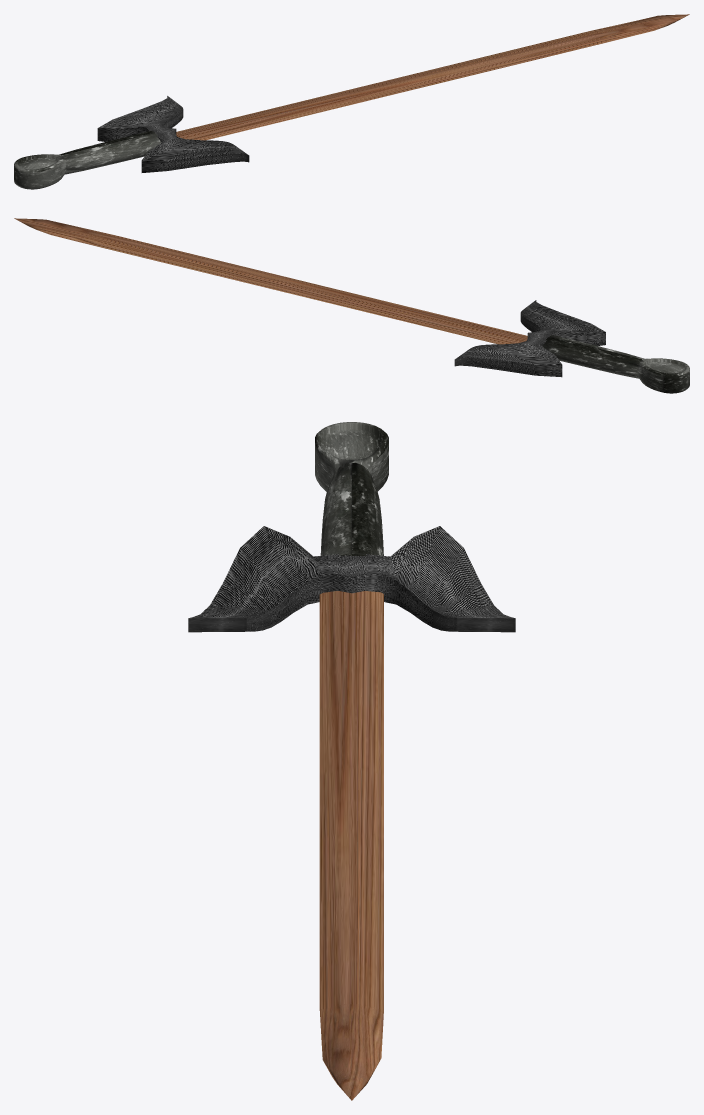
File: sword.FBX
3 views of the same model, one above another, from view 1: azimuth 30°, elevation 25°; view 2: azimuth 150°, elevation 25°; view 3: azimuth 270°, elevation 25° (orthographic). The views are drawn at different scales.
Visible parts, largest first — view 1: Cylinder001; view 2: Cylinder001; view 3: Cylinder001.
Part boxes in pixels (left/top/right/bottom): Cylinder001: left=14, top=14, right=689, bottom=189; Cylinder001: left=14, top=218, right=689, bottom=393; Cylinder001: left=188, top=422, right=515, bottom=1100.
Size of the model in its own units: 44.03 by 1.24 by 9.26.
